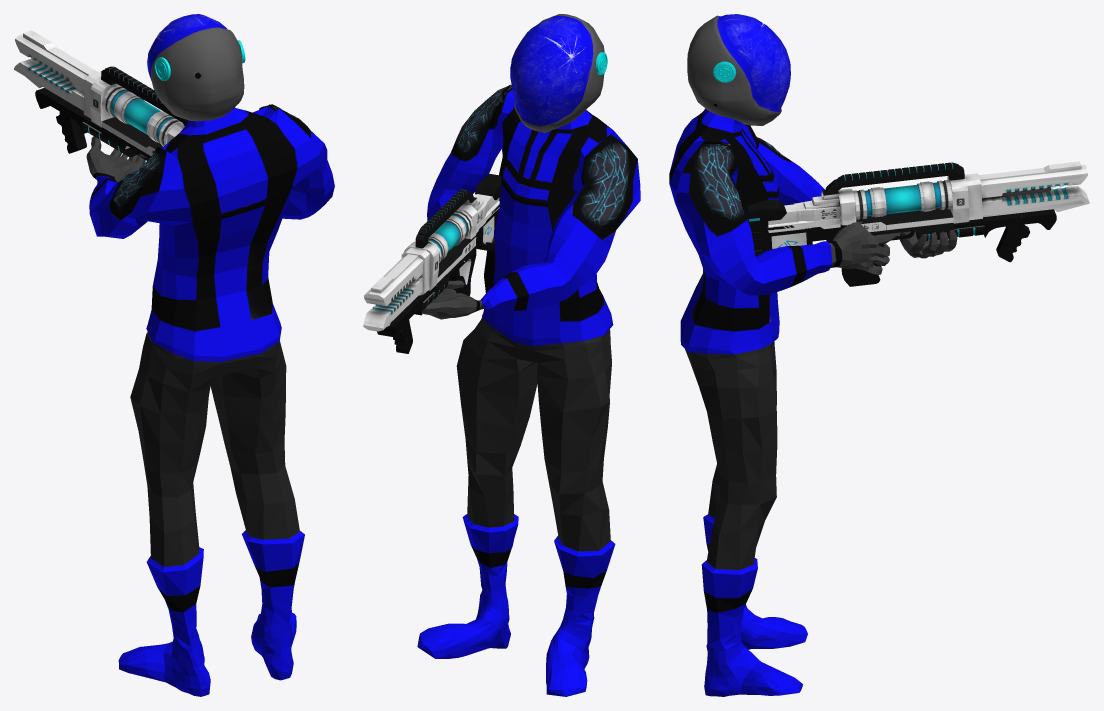
The picture shows the model from 3 angles, left to right: view 1: azimuth 30°, elevation 25°; view 2: azimuth 150°, elevation 25°; view 3: azimuth 270°, elevation 25°; orthographic projection. The views are drawn at different scales.
Parts seen in each view (by area): view 1: Brazos2, Piernas1, Line0011, Cabeza1; view 2: Piernas1, Brazos2, Line0011, Cabeza1; view 3: Brazos2, Piernas1, Line0011, Cabeza1.
Part boxes in pixels (box(x1,y1,x2,y2)): Brazos2: box(86, 104, 334, 361); Piernas1: box(118, 332, 304, 696); Line0011: box(14, 30, 187, 160); Cabeza1: box(147, 14, 245, 121); Piernas1: box(417, 317, 615, 696); Brazos2: box(422, 84, 640, 346); Line0011: box(363, 173, 501, 353); Cabeza1: box(510, 14, 607, 132); Brazos2: box(669, 108, 957, 354); Piernas1: box(685, 342, 807, 696); Line0011: box(745, 161, 1089, 286); Cabeza1: box(687, 14, 790, 125).
Bounding box in the file's own units: 55.66 × 177 × 105.
